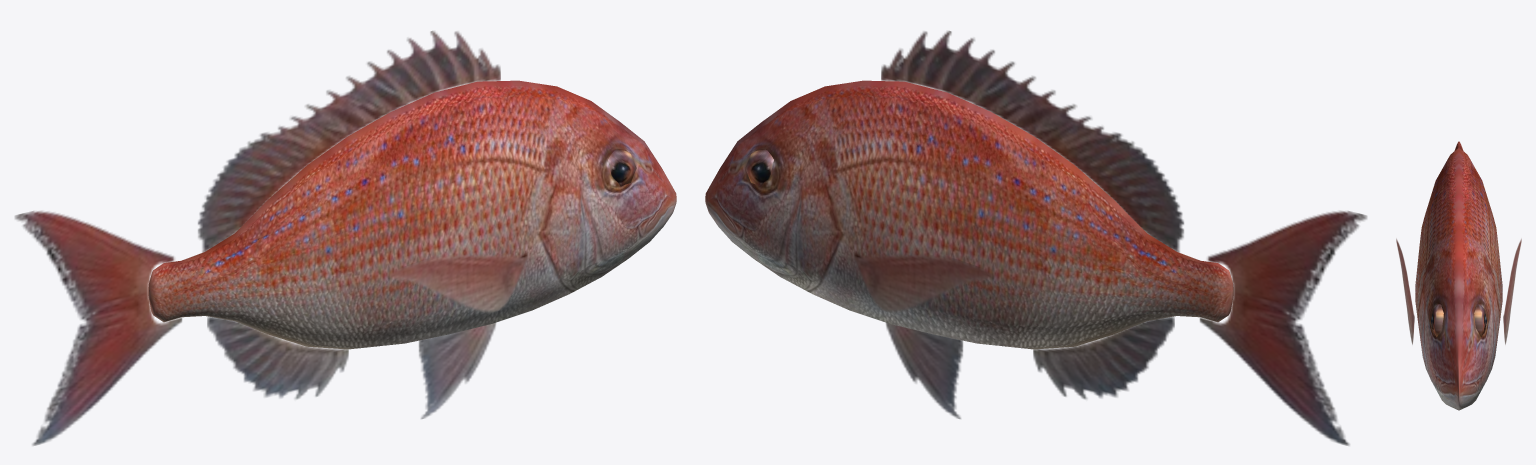
The model's file is madai_lo.glb.
3 renders of one model, left to right at view 1: azimuth 30°, elevation 25°; view 2: azimuth 150°, elevation 25°; view 3: azimuth 270°, elevation 25°, orthographic. The views are drawn at different scales.
Visible parts, largest first — view 1: madai_body; view 2: madai_body; view 3: madai_body.
Boxes of the visible parts, x1,y1,x2,y2 form: madai_body: [15, 31, 676, 445]; madai_body: [705, 31, 1366, 445]; madai_body: [1396, 141, 1521, 410].
Bounding box in the file's own units: 0.4507 × 0.251 × 0.0914.
Materials: 1 (1 with a texture image).
